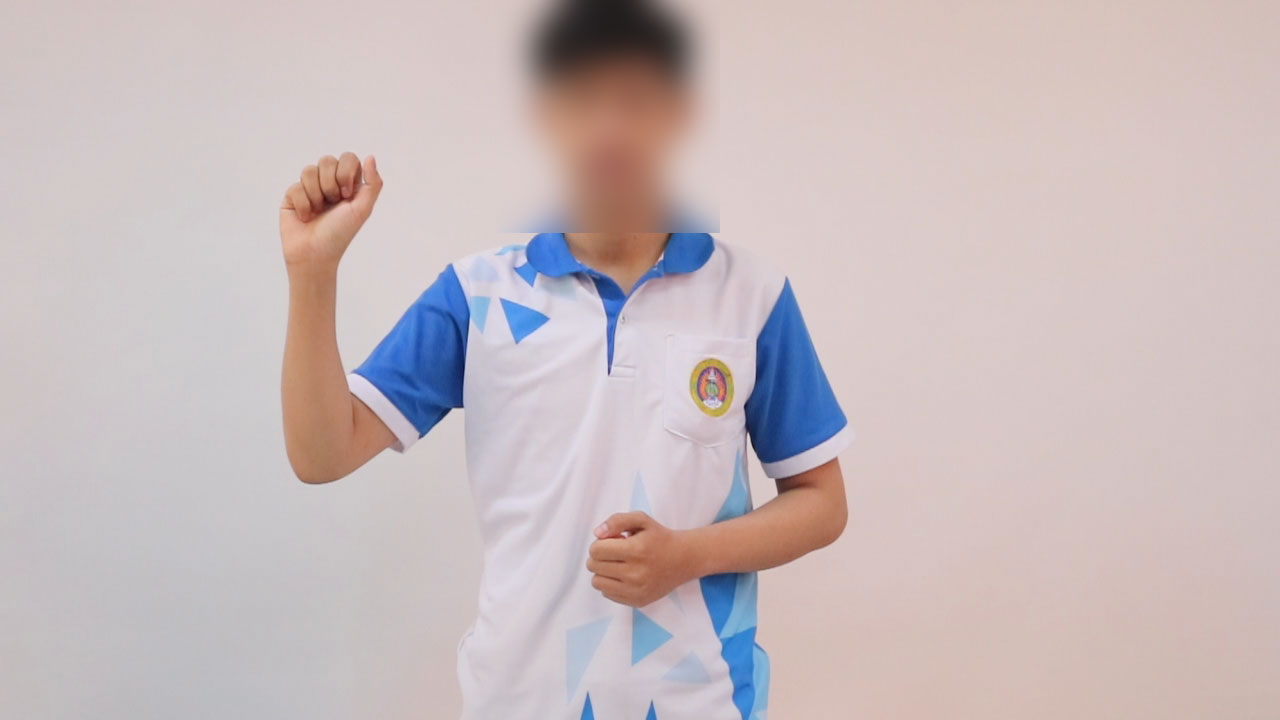sor: (261, 135, 388, 275)
